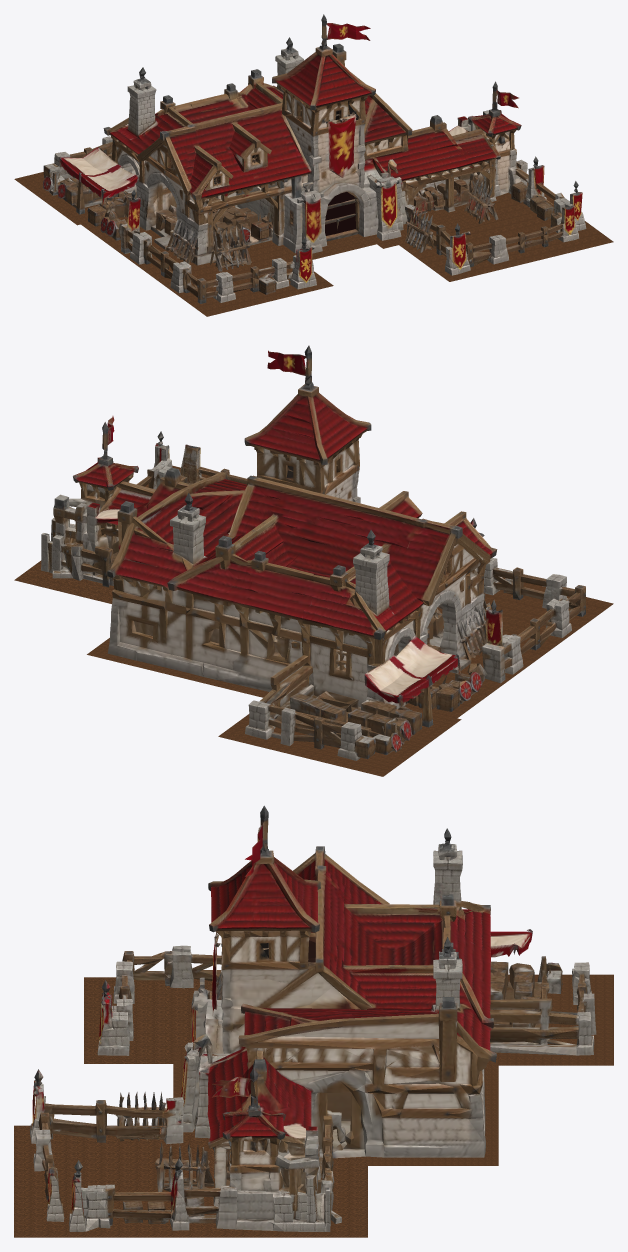
The model's file is Militarybarrackslvl1.glb.
3 views of the same model, one above another, from view 1: azimuth 30°, elevation 25°; view 2: azimuth 150°, elevation 25°; view 3: azimuth 270°, elevation 25° (orthographic). The views are drawn at different scales.
Parts seen in each view (by area): view 1: output_unwrapped, Plane, Cube.001; view 2: output_unwrapped, Plane; view 3: output_unwrapped, Plane.
Boxes of the visible parts, box(x1,y1,x2,y2) form: output_unwrapped: box(43, 14, 586, 303); Plane: box(14, 172, 613, 316); Cube.001: box(325, 192, 355, 235); output_unwrapped: box(41, 345, 585, 760); Plane: box(14, 465, 613, 776); output_unwrapped: box(29, 805, 596, 1231); Plane: box(14, 974, 613, 1237).
Bounding box in the file's own units: 1.97 × 1.03 × 1.9.
Materials: 5 (4 with a texture image).
